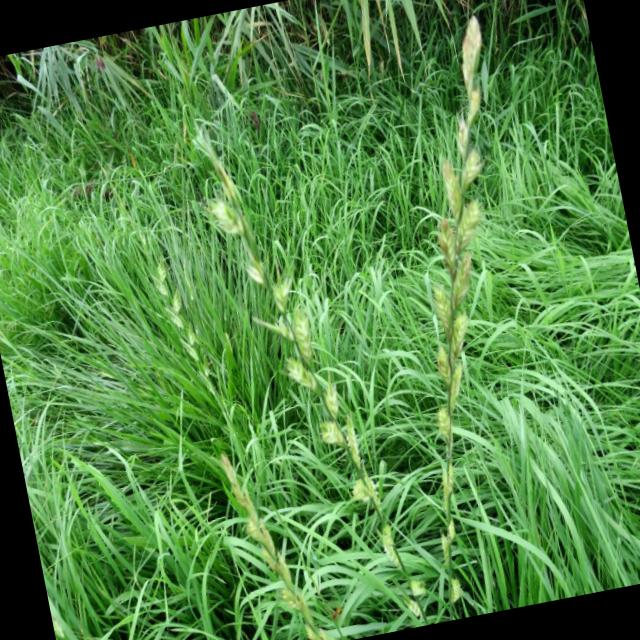Lolium: (328, 11, 594, 622), (189, 99, 431, 640), (224, 442, 320, 640), (148, 247, 238, 444)
